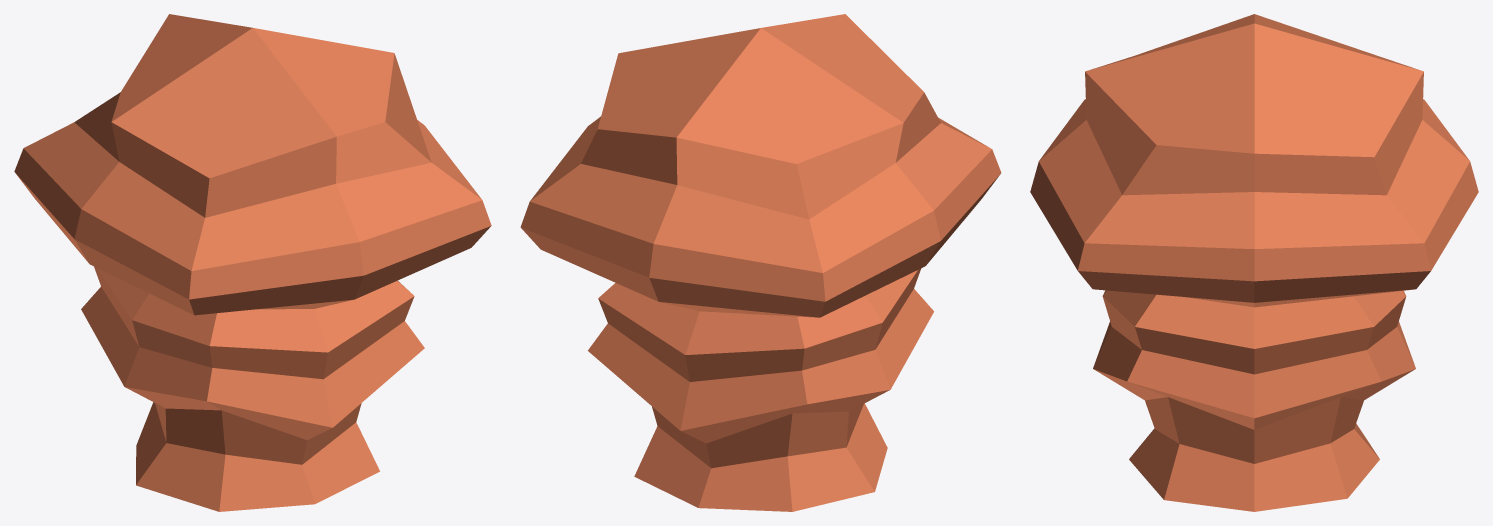
File: stonetower1.fbx
3 renders of one model, left to right at view 1: azimuth 30°, elevation 25°; view 2: azimuth 150°, elevation 25°; view 3: azimuth 270°, elevation 25°, orthographic.
Parts seen in each view (by area): view 1: Plane.002; view 2: Plane.002; view 3: Plane.002.
Boxes of the visible parts, x1,y1,x2,y2 form: Plane.002: [14, 14, 491, 511]; Plane.002: [520, 14, 1001, 511]; Plane.002: [1030, 14, 1478, 511].
Size of the model in its own units: 483 by 613 by 519.
